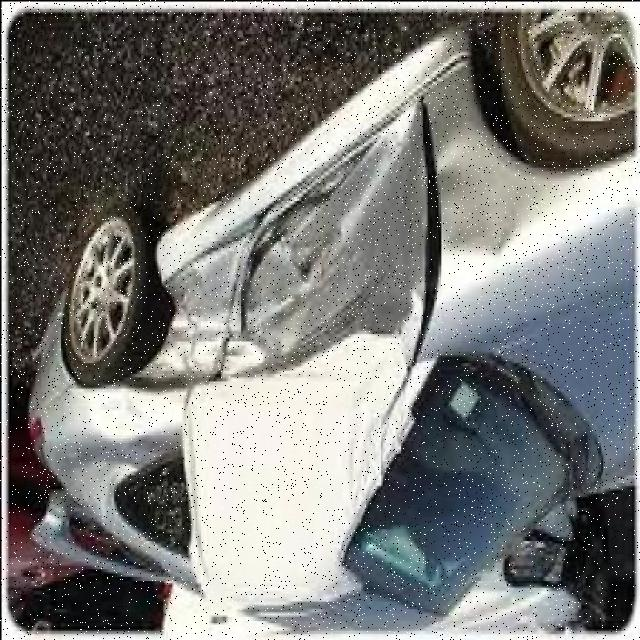damage: (115, 87, 515, 601)
